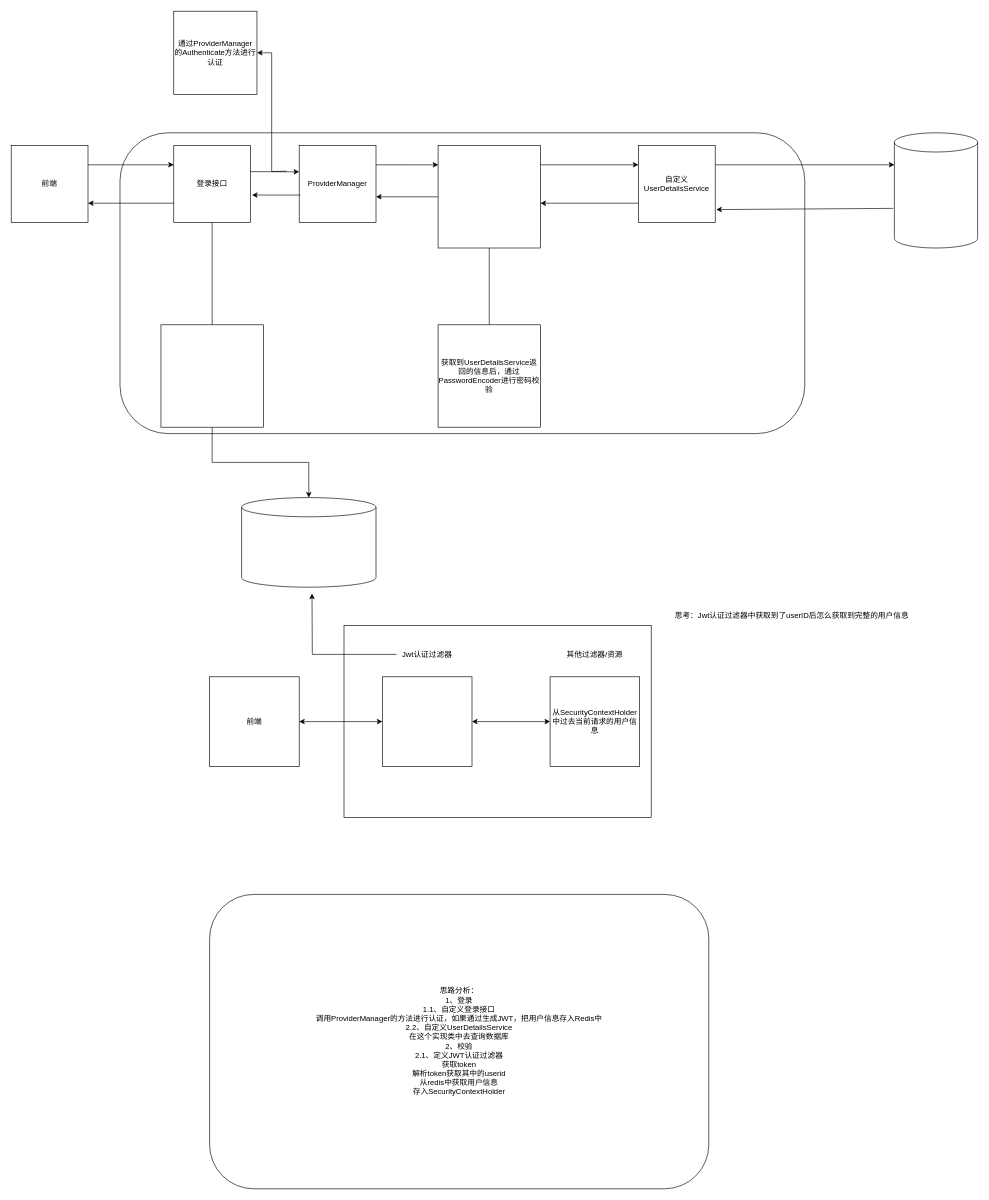
The diagram is 989 pixels wide and 1200 high, and some of its shapes have lost their labels. Each missing label, with the centre of its shape:
1、获取token 2、解析token 3、获userID 4、封装Authentication对象存入SecurityContextHolder: pixel 427 721
DaoAuthenticationProvider: pixel 488 196
Redis: pixel 308 542
如果认证通过，使用用户ID生成一个JWT 然后用userid作为key，用户信息作为value存入redis: pixel 211 375
数据库: pixel 936 190
